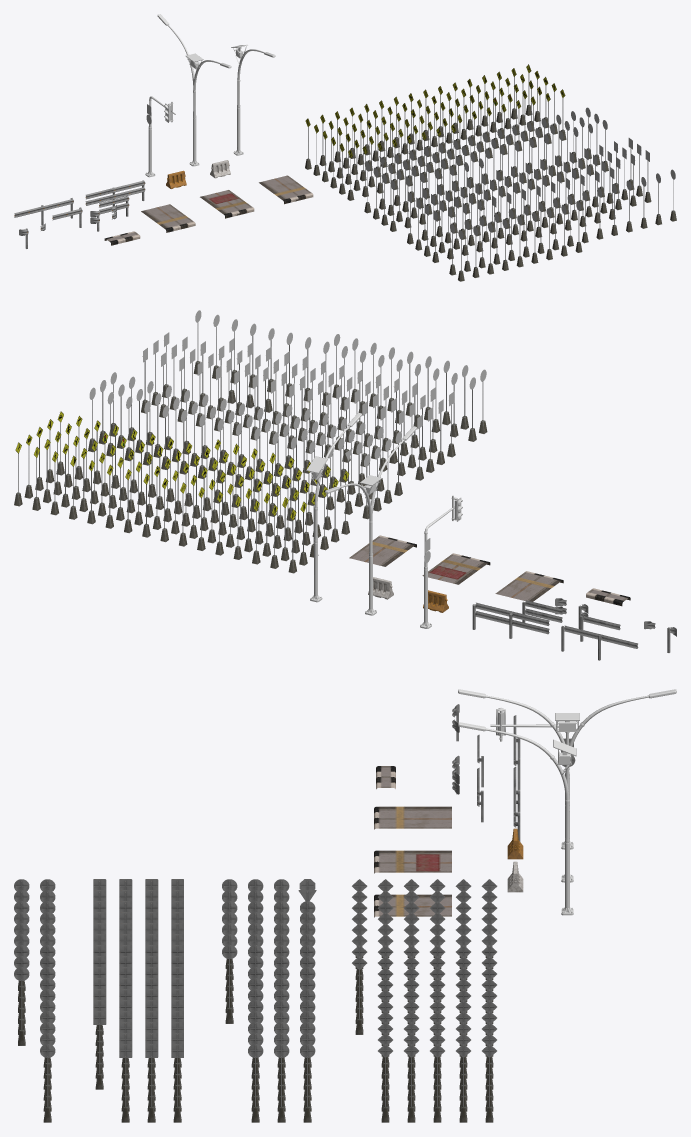
File: Road Pack.fbx
3 views of the same model, one above another, from view 1: azimuth 30°, elevation 25°; view 2: azimuth 150°, elevation 25°; view 3: azimuth 270°, elevation 25° (orthographic). The views are drawn at different scales.
Parts seen in each view (by area): view 1: SideWalkB, SideWalkC, SideWalkA, StreetLampDouble, RailingDouble, StreetLampSingle, Traffic Light; view 2: StreetLampDouble, SideWalkA, SideWalkB, RailingDouble, SideWalkC, StreetLampSingle, Traffic Light, RailingEnd, RailingDouble2M; view 3: SideWalkB, SideWalkA, StreetLampDouble, StreetLampSingle, SideWalkC, Traffic Light.
Boxes of the visible parts, <box> form: SideWalkB: <box>200,190,254,218</box>; SideWalkC: <box>259,175,313,204</box>; SideWalkA: <box>141,204,195,232</box>; StreetLampDouble: <box>157,14,231,166</box>; RailingDouble: <box>85,180,145,206</box>; StreetLampSingle: <box>231,44,275,155</box>; Traffic Light: <box>145,96,175,177</box>; StreetLampDouble: <box>325,426,416,615</box>; SideWalkA: <box>495,571,563,601</box>; SideWalkB: <box>422,553,490,584</box>; RailingDouble: <box>472,602,549,638</box>; SideWalkC: <box>349,535,416,566</box>; StreetLampSingle: <box>306,413,361,602</box>; Traffic Light: <box>420,495,462,628</box>; RailingEnd: <box>561,625,638,660</box>; RailingDouble2M: <box>522,600,562,622</box>; SideWalkB: <box>374,850,451,873</box>; SideWalkA: <box>374,806,451,829</box>; StreetLampDouble: <box>458,689,676,882</box>; StreetLampSingle: <box>458,722,576,915</box>; SideWalkC: <box>374,894,451,917</box>; Traffic Light: <box>490,707,575,849</box>.
Size of the model in its own units: 3547 by 860 by 2551.
